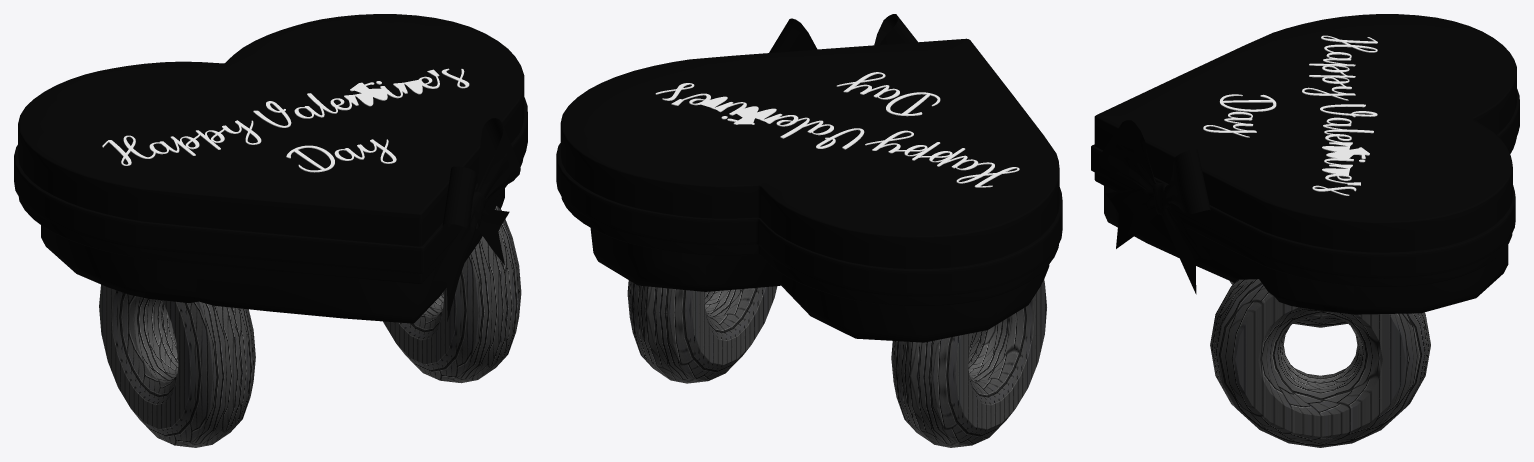
File: vdaybox_resting.fbx
3 renders of one model, left to right at view 1: azimuth 30°, elevation 25°; view 2: azimuth 150°, elevation 25°; view 3: azimuth 270°, elevation 25°, orthographic. The views are drawn at different scales.
Parts seen in each view (by area): view 1: polySurface33, pasted__polySurface18, pasted__polySurface19; view 2: polySurface33, pasted__polySurface18, pasted__polySurface19; view 3: polySurface33, pasted__polySurface19, pasted__polySurface18.
Boxes of the visible parts, x1,y1,x2,y2 form: polySurface33: [14, 14, 527, 323]; pasted__polySurface18: [99, 284, 255, 447]; pasted__polySurface19: [383, 206, 521, 383]; polySurface33: [556, 14, 1062, 342]; pasted__polySurface18: [891, 279, 1046, 447]; pasted__polySurface19: [627, 280, 777, 383]; polySurface33: [1091, 14, 1519, 314]; pasted__polySurface19: [1210, 279, 1430, 447]; pasted__polySurface18: [1230, 281, 1347, 327].
Bounding box in the file's own units: 11.17 × 7.09 × 9.55.
